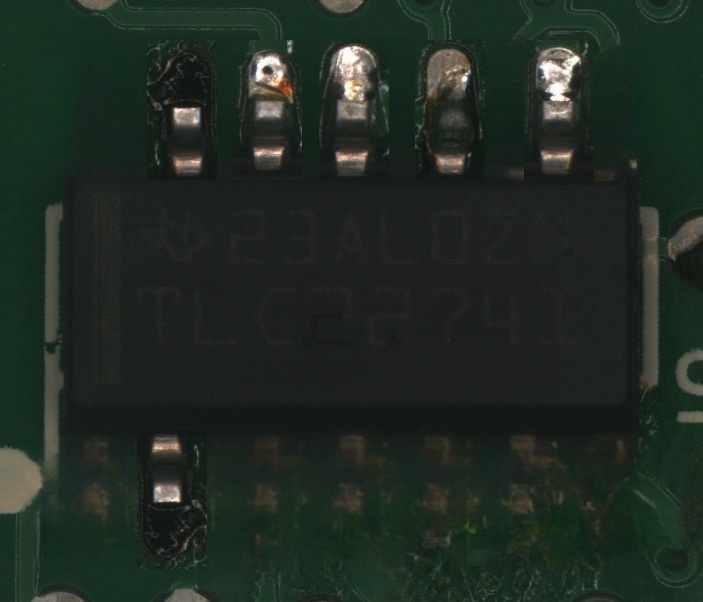NG: (137, 430, 207, 570), (415, 40, 485, 180), (147, 40, 217, 180)
OK: (319, 40, 389, 180), (524, 40, 594, 180), (232, 40, 302, 180)
